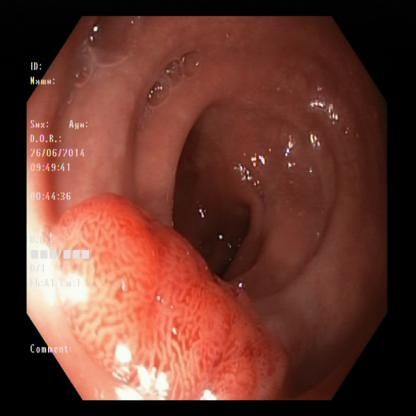Labels: (25, 60, 89, 358)
Polyps: (95, 198, 273, 391)
